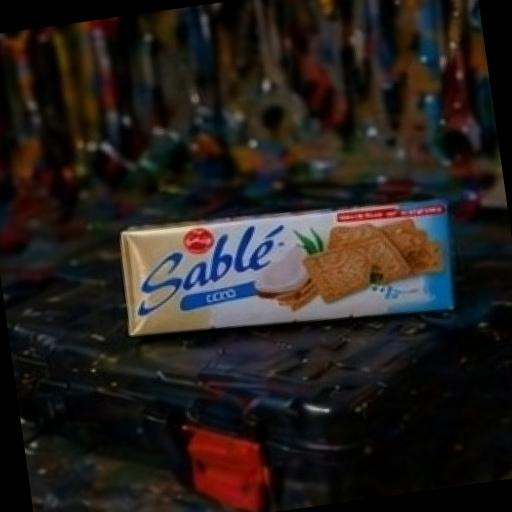sabl: (73, 113, 512, 438)
